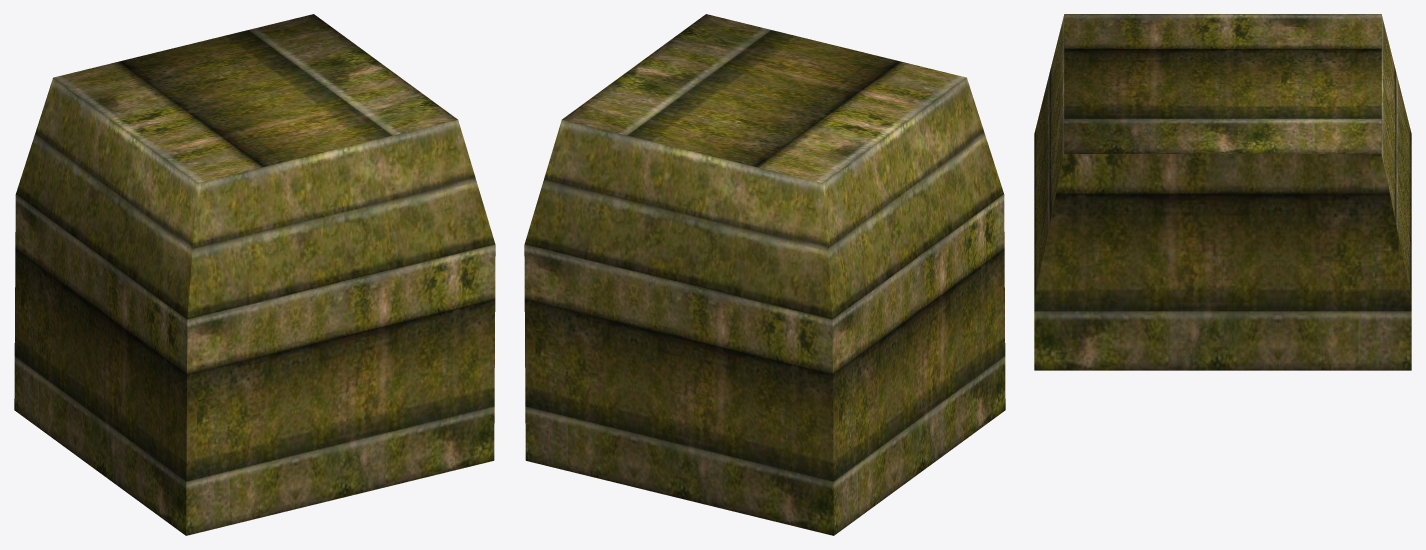
The model's file is OVERHILL_A_01_OBJECT337.fbx.
The picture shows the model from 3 angles, left to right: view 1: azimuth 30°, elevation 25°; view 2: azimuth 150°, elevation 25°; view 3: azimuth 270°, elevation 25°; orthographic projection. The views are drawn at different scales.
Parts seen in each view (by area): view 1: OVERHILL_A_01_OBJECT337; view 2: OVERHILL_A_01_OBJECT337; view 3: OVERHILL_A_01_OBJECT337.
Boxes of the visible parts, x1,y1,x2,y2 form: OVERHILL_A_01_OBJECT337: (14,14,495,535); OVERHILL_A_01_OBJECT337: (524,14,1005,535); OVERHILL_A_01_OBJECT337: (1034,14,1411,370).
Size of the model in its own units: 11892 by 12361 by 11426.
2 materials, 2 textured.
